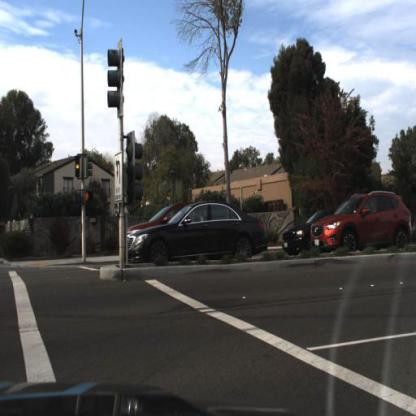car: (118, 197, 274, 277), (306, 187, 414, 255)
